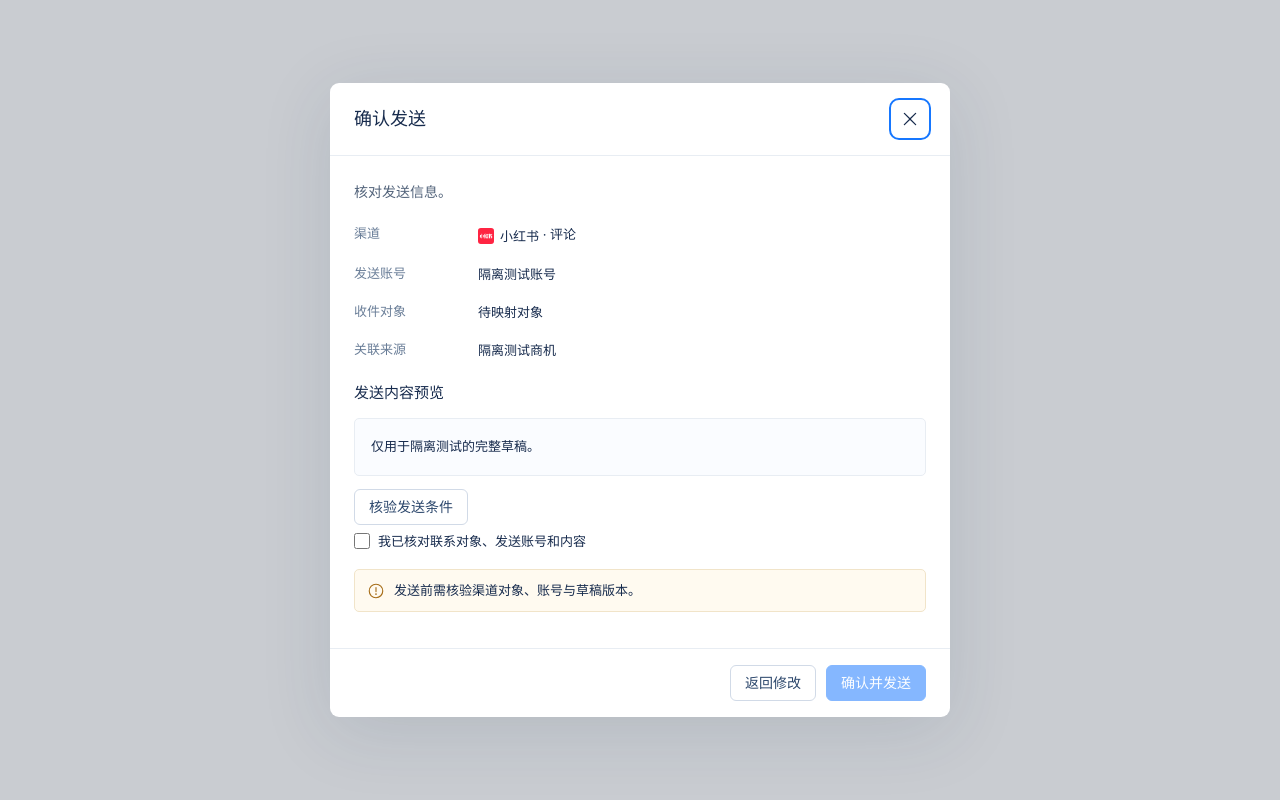
Test case: send confirmation with isolated available service fixtures › enables only after mapped proof and explicit review, rechecks on send, and records the actual outcome
What coordinates should you click on to do the following:
click the checkbox labelled "我已核对联系对象、发送账号和内容"
I would click on:
 (362, 541)
Its box is 354,533 -> 370,549.
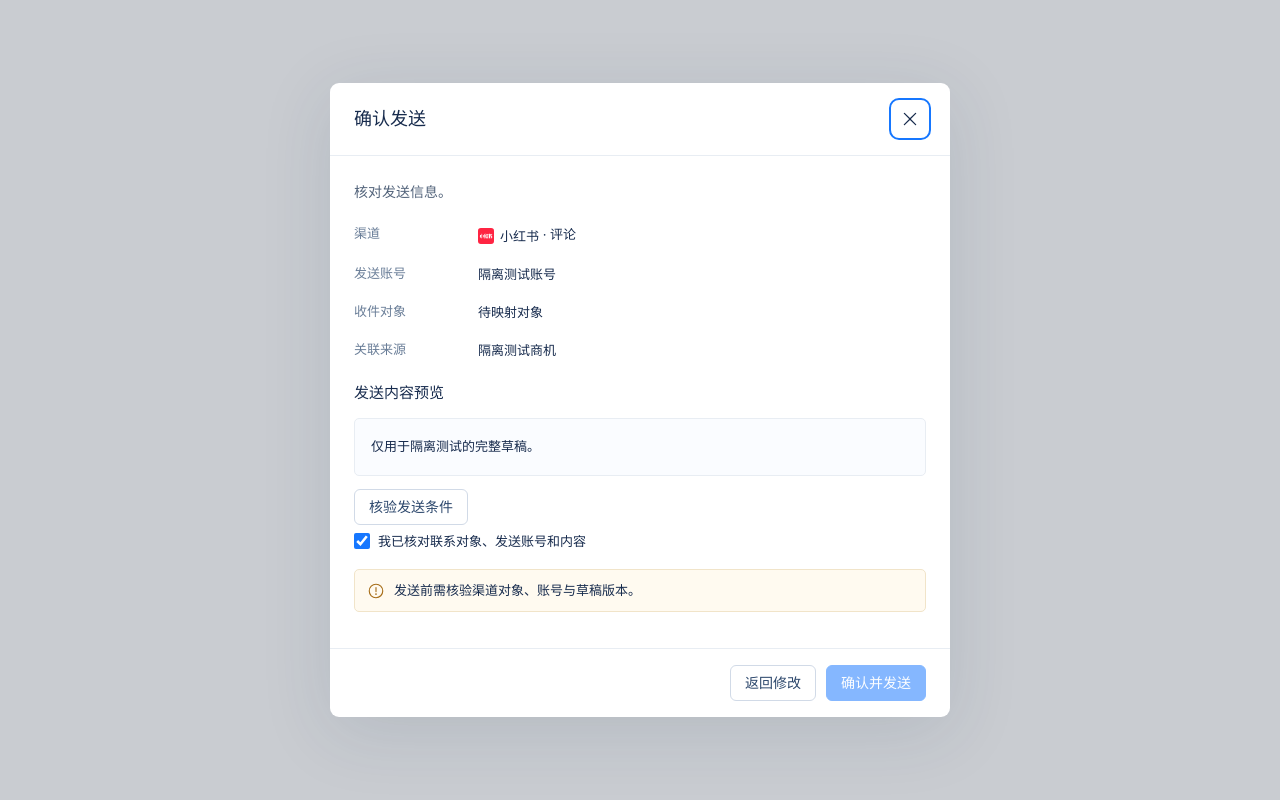
Expected: the button "确认并发送" is disabled, 826,665 -> 926,701
What coordinates should you click on to do the following:
click the button "核验发送条件"
I would click on:
 (411, 507)
Its box is 354,489 -> 468,525.
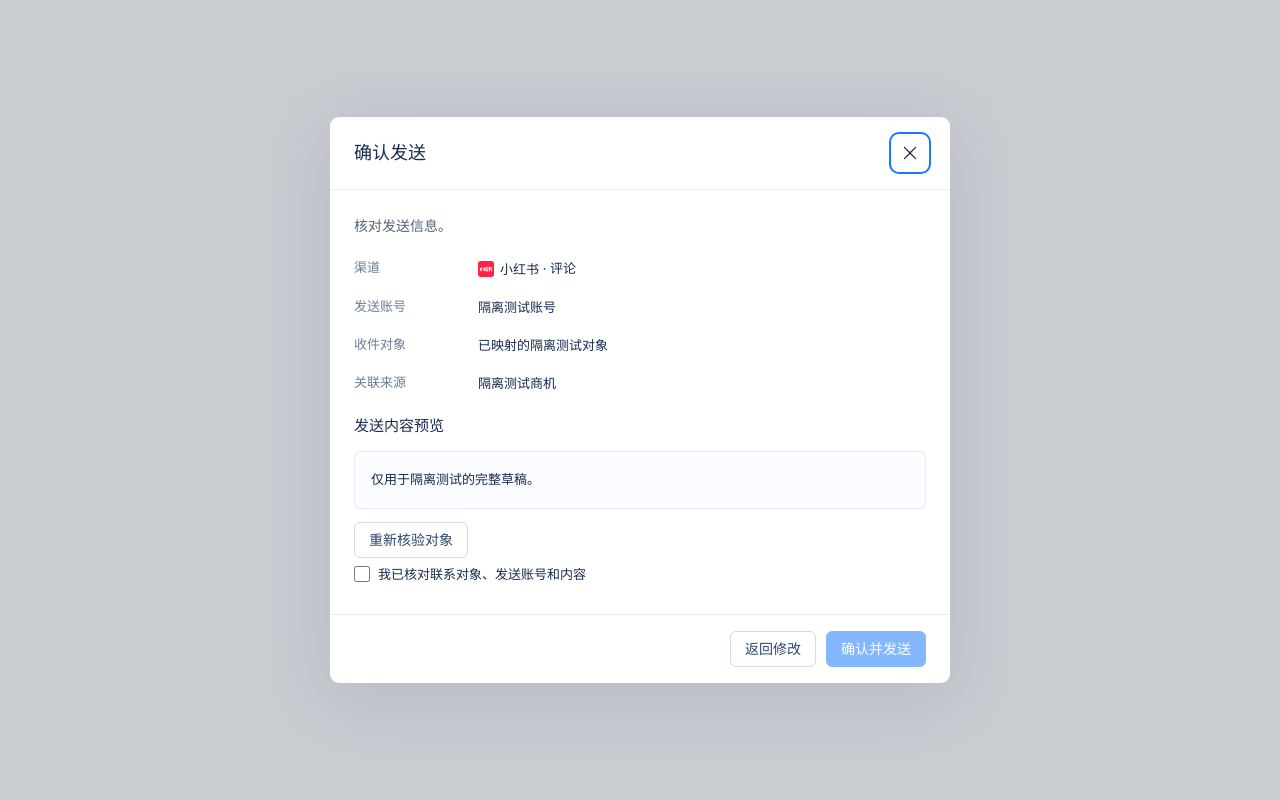
Expected: the text "已映射的隔离测试对象" is shown, 478,337 -> 608,353
What coordinates should you click on to do the following:
click the checkbox labelled "我已核对联系对象、发送账号和内容"
I would click on:
 (362, 574)
Its box is 354,566 -> 370,582.
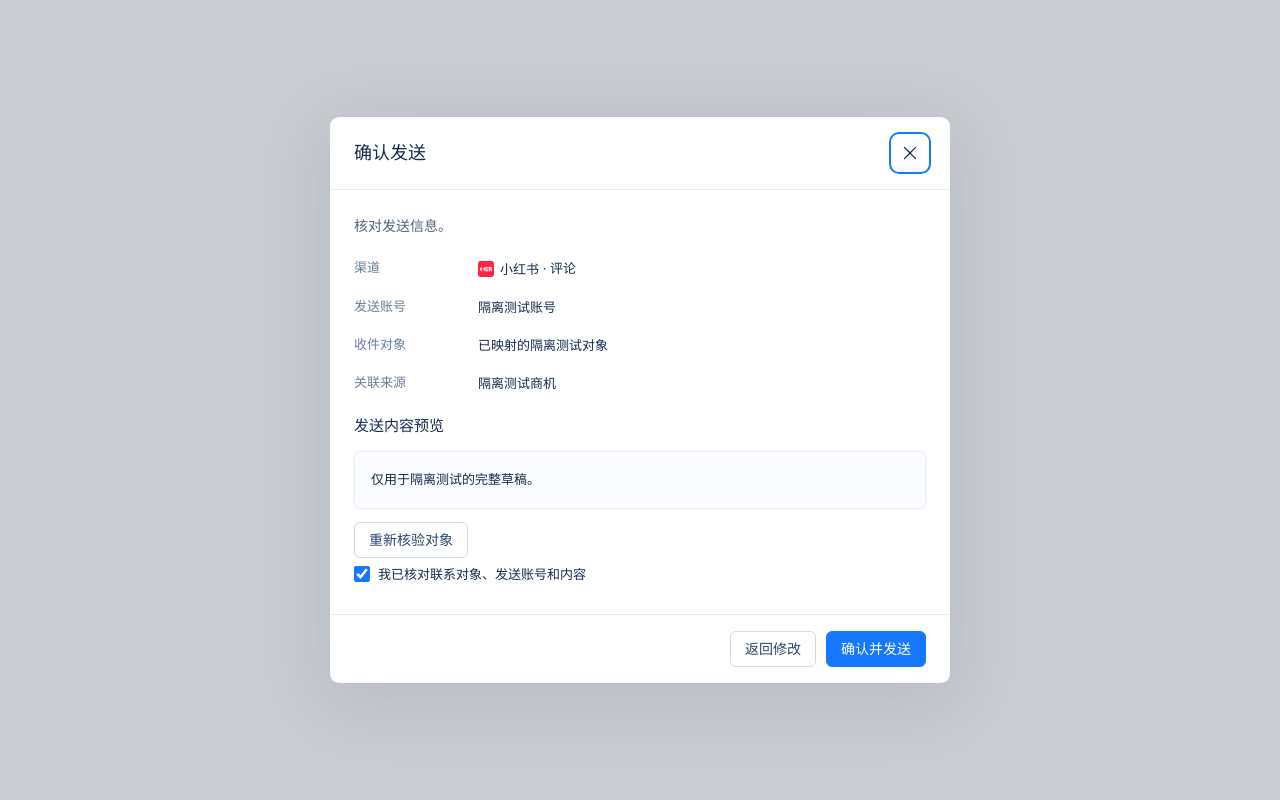
Expected: the button "确认并发送" is enabled
What coordinates should you click on to do the following:
click the button "确认并发送"
I would click on:
 (876, 650)
Its box is 826,632 -> 926,668.
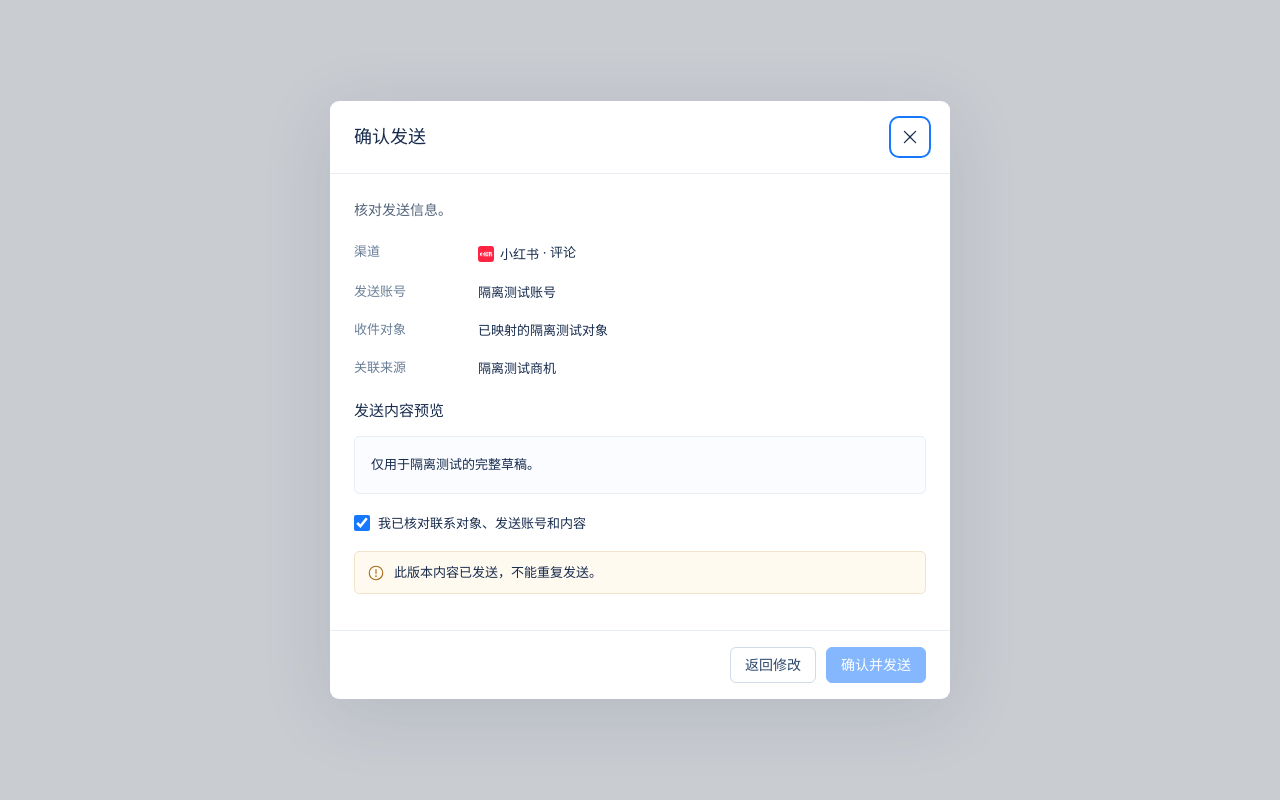
Expected: the text "此版本内容已发送，不能重复发送。" is shown, 394,564 -> 602,580
Expected: the button "确认并发送" is disabled, 826,647 -> 926,683
